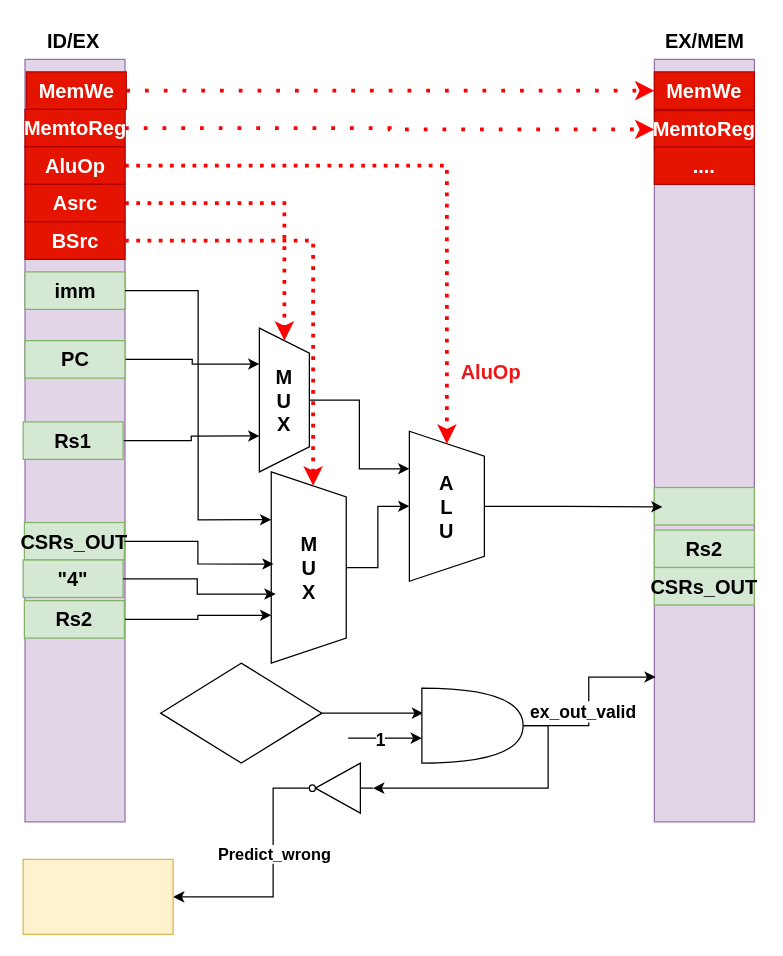
This 783x956 diagram has some shape labels left out. Each missing label, with the centre of its shape:
ex_dnpc == pc: point (240, 712)
IF: point (97, 896)
Result: point (703, 505)
